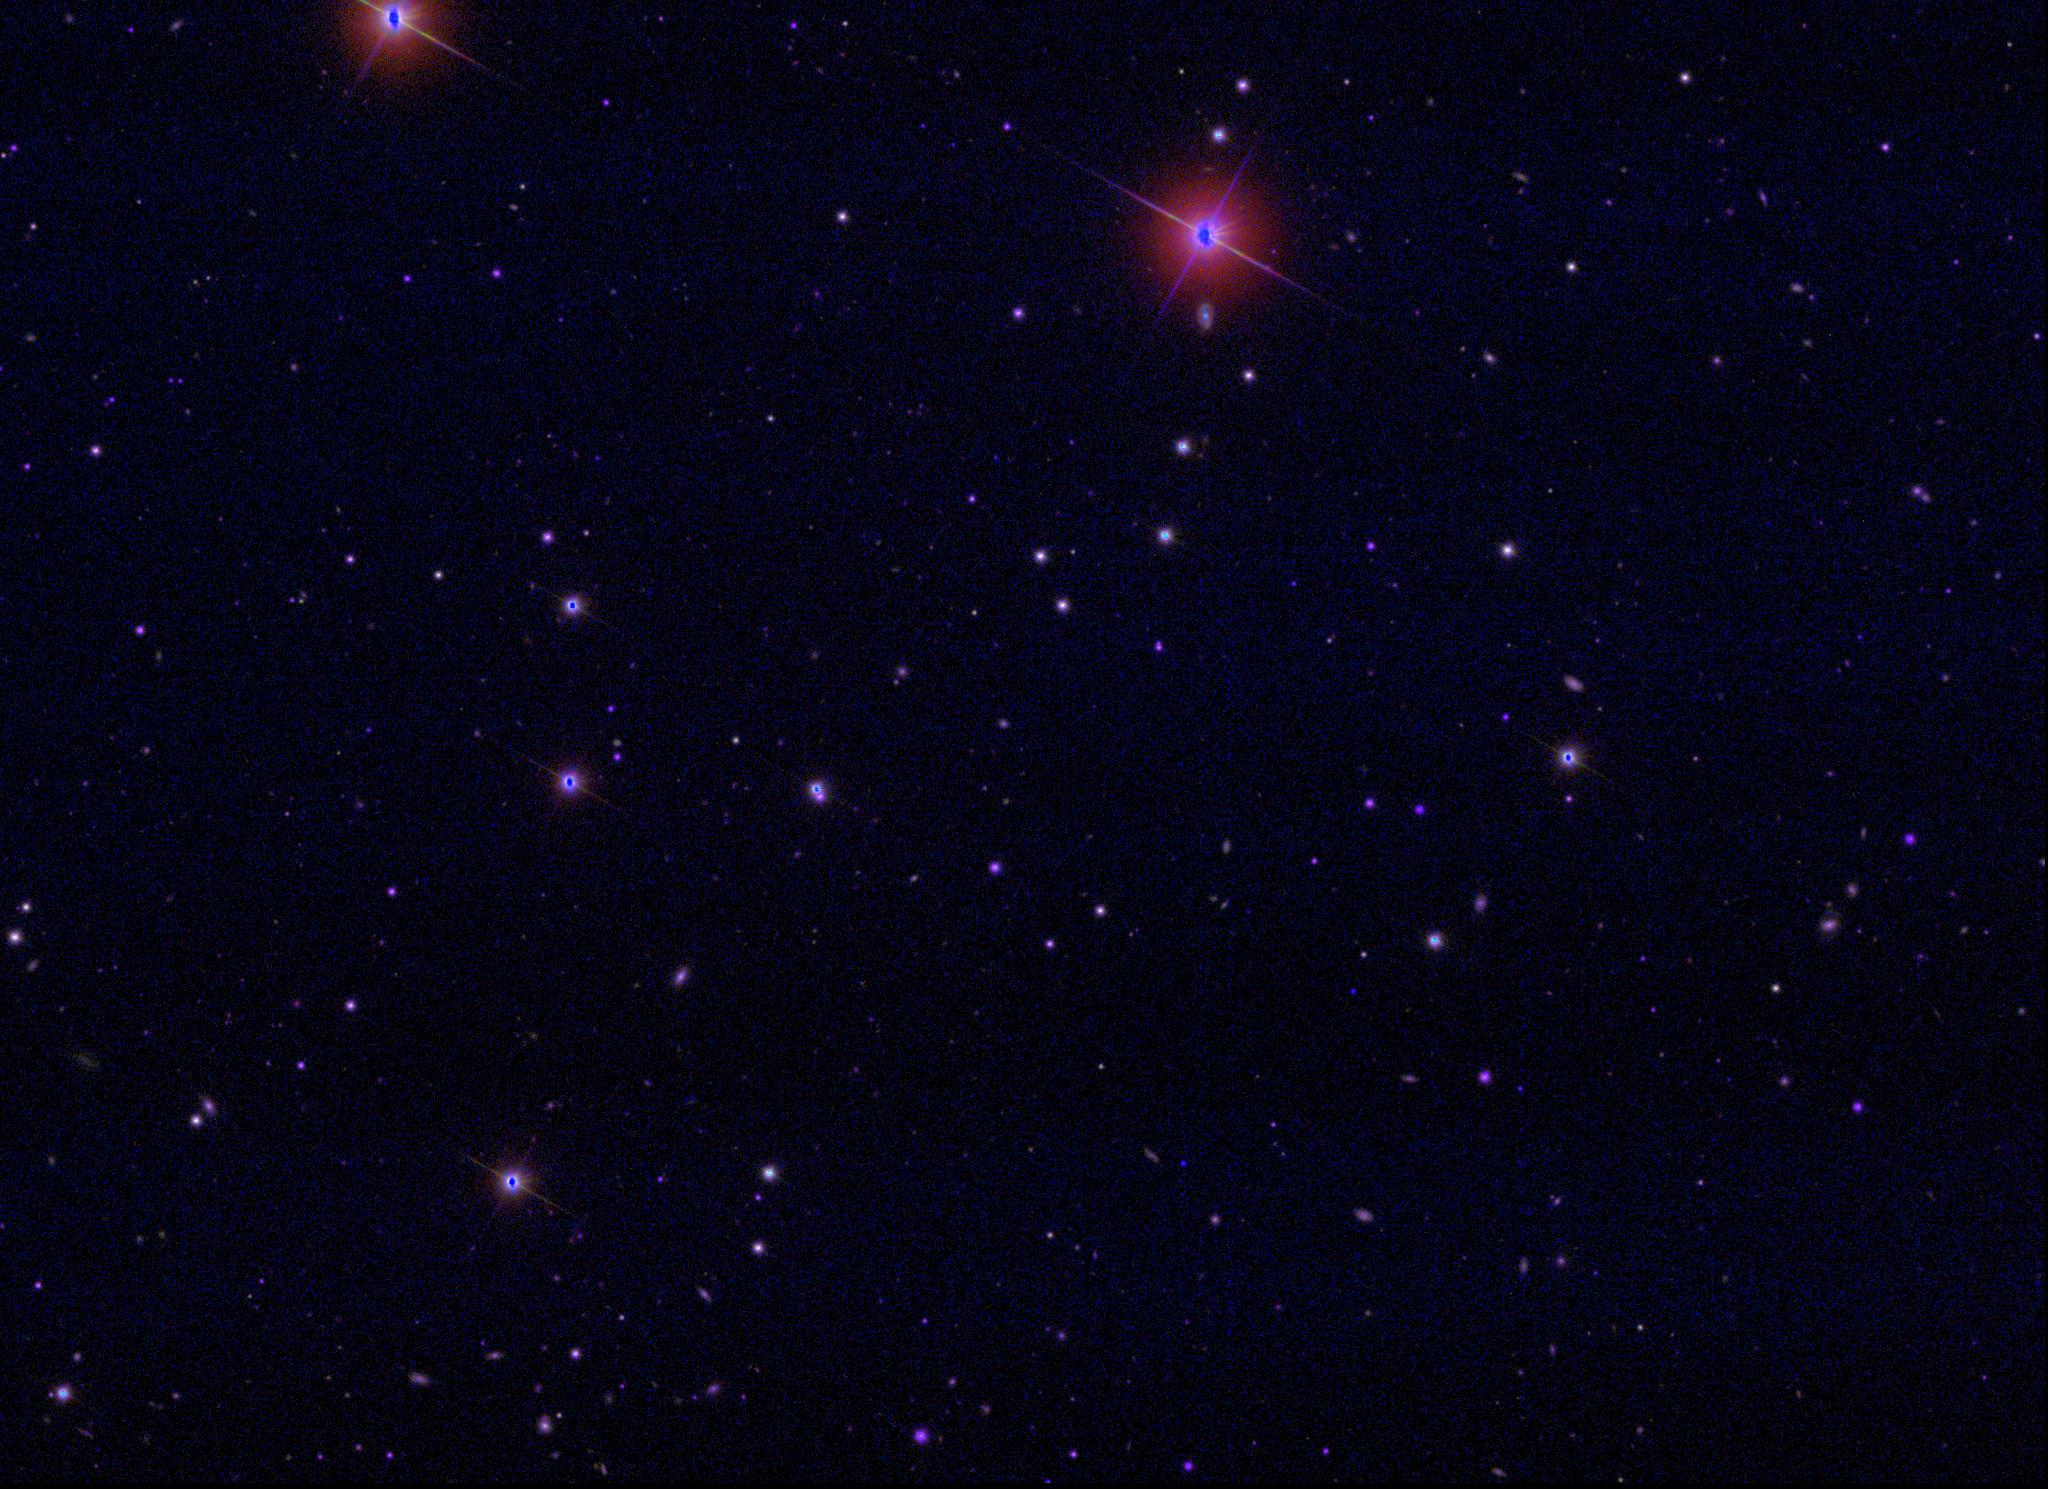L: (1347, 985, 1360, 997)
